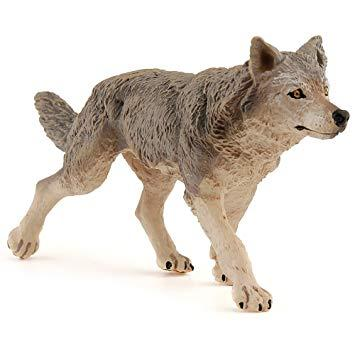fox: (5, 33, 351, 315)
